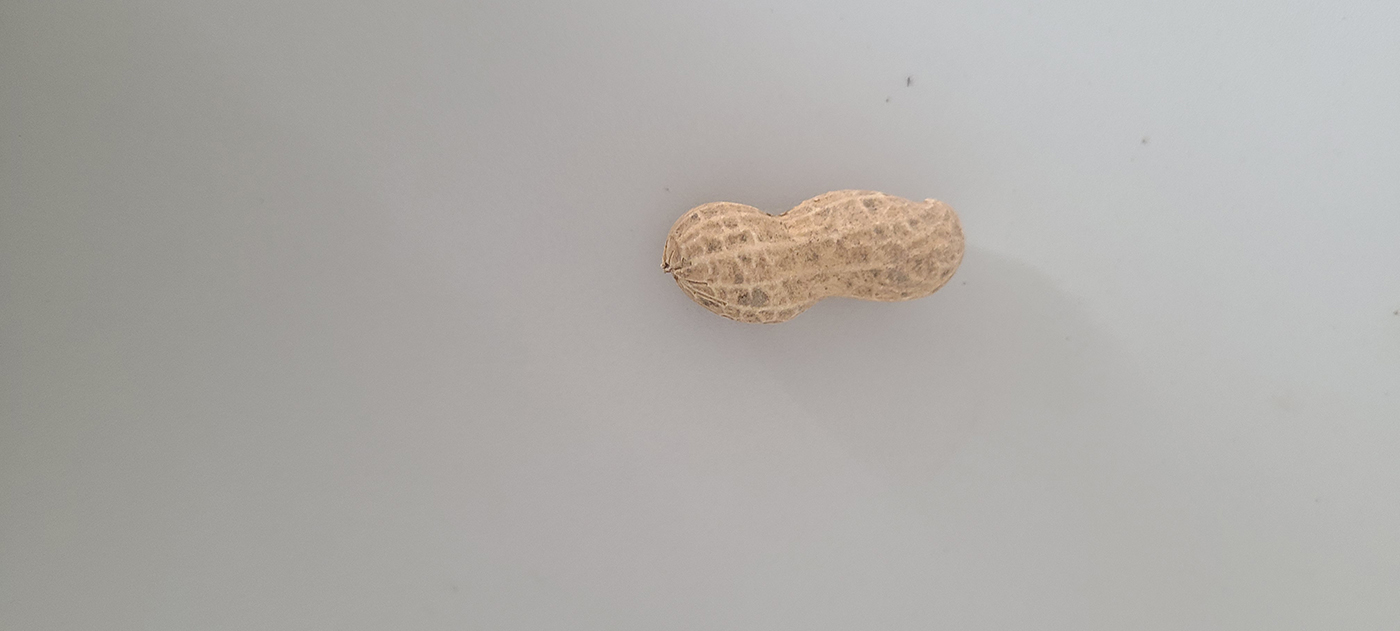h: (659, 183, 968, 327)
